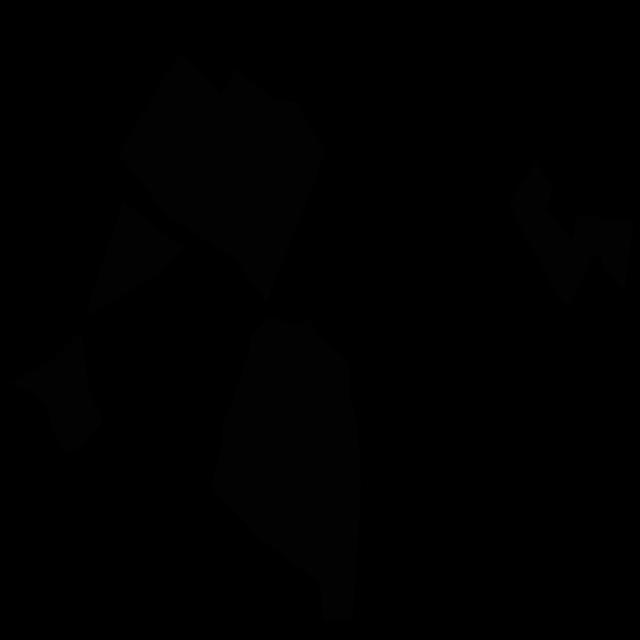cardboard: (118, 52, 326, 303), (210, 316, 362, 622), (508, 161, 634, 307), (8, 330, 104, 455), (85, 201, 186, 316)
